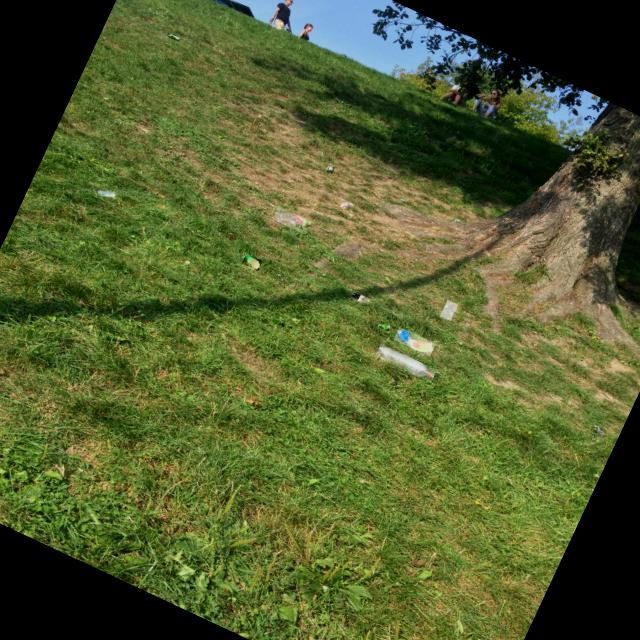Clear plastic bottle: (377, 348, 434, 378), (273, 213, 310, 227), (340, 203, 353, 208)
Cup: (244, 255, 259, 270)
Drink can: (327, 166, 332, 174)
Food Carton: (397, 330, 432, 355)
Glass bottle: (442, 303, 454, 320)
Other plastic: (358, 296, 369, 303)
Unlabeled litter: (593, 425, 605, 437), (167, 34, 180, 40), (379, 325, 389, 330), (353, 293, 360, 299), (454, 220, 460, 223)
